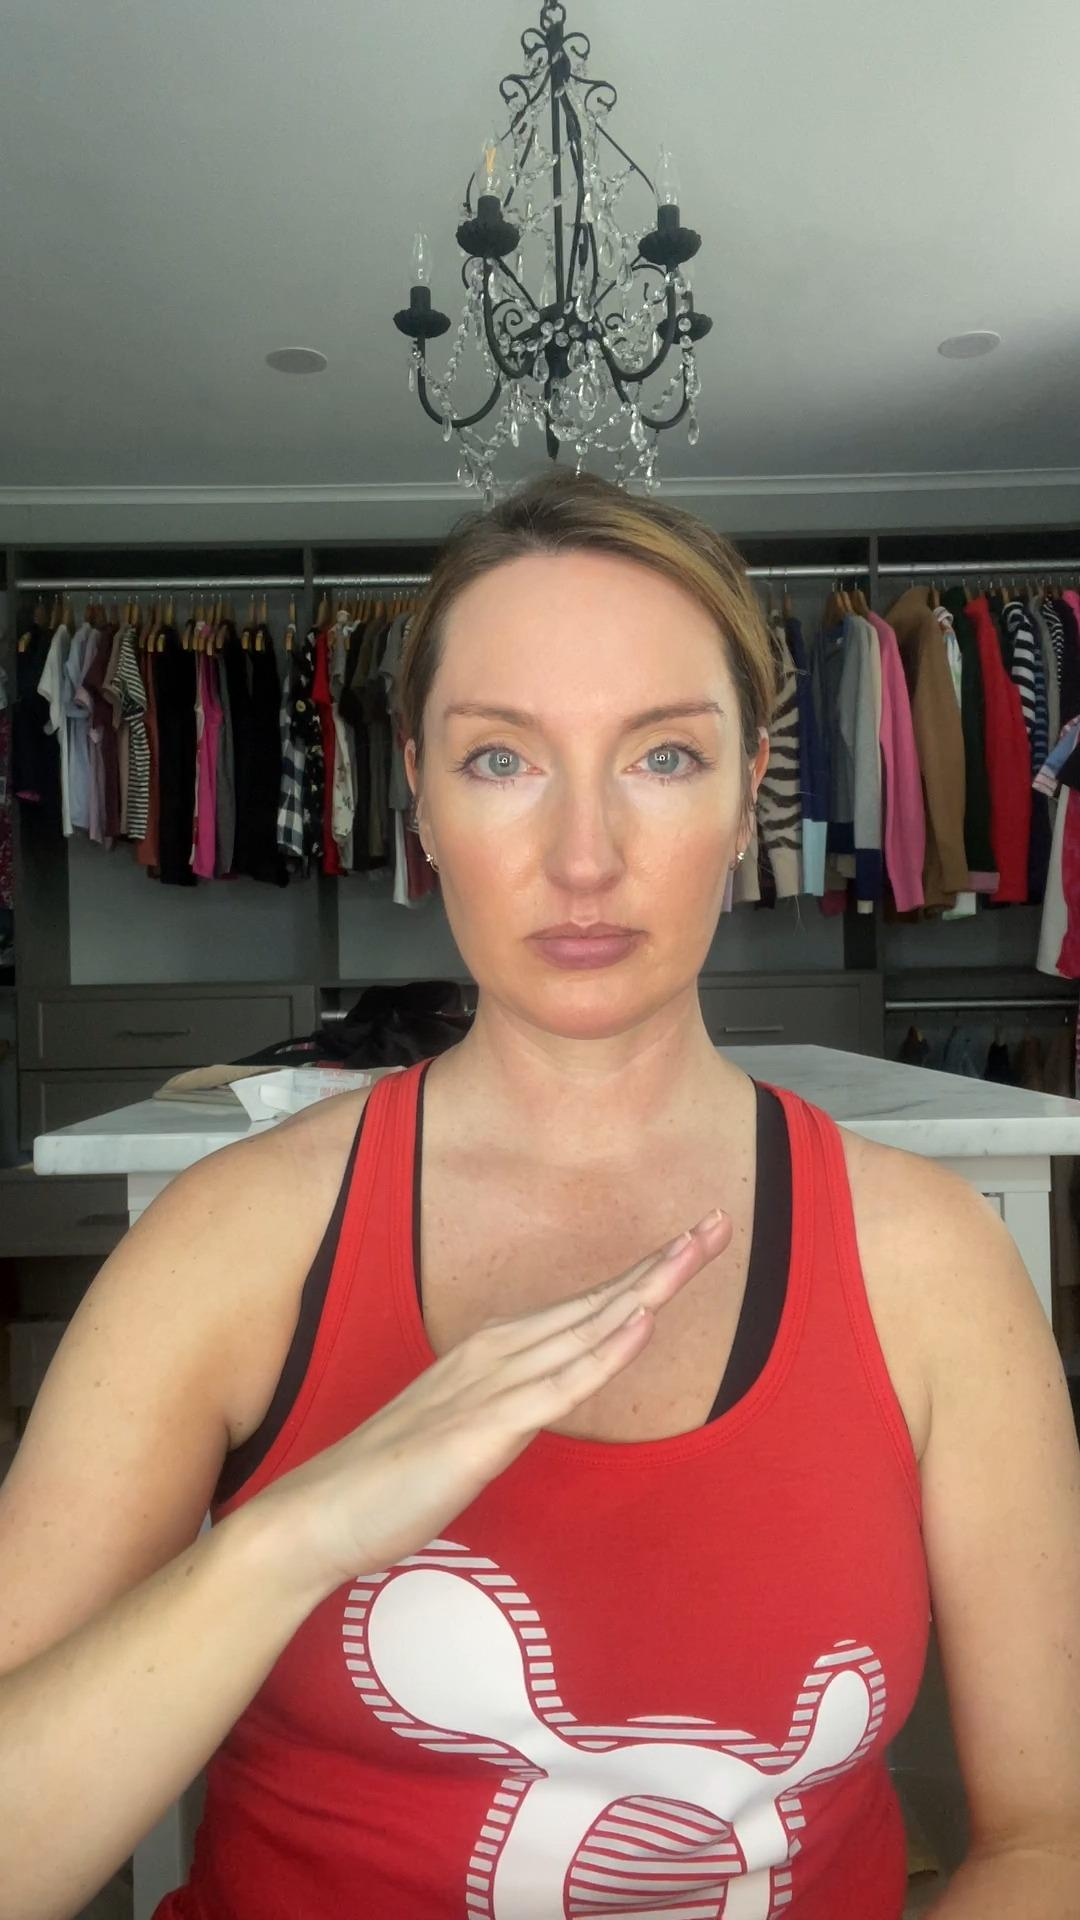Paper: (270, 1213, 720, 1572)
